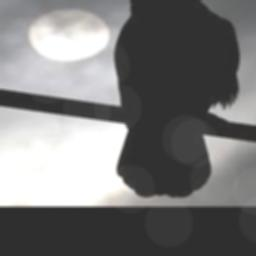Crow: (85, 0, 240, 198)
